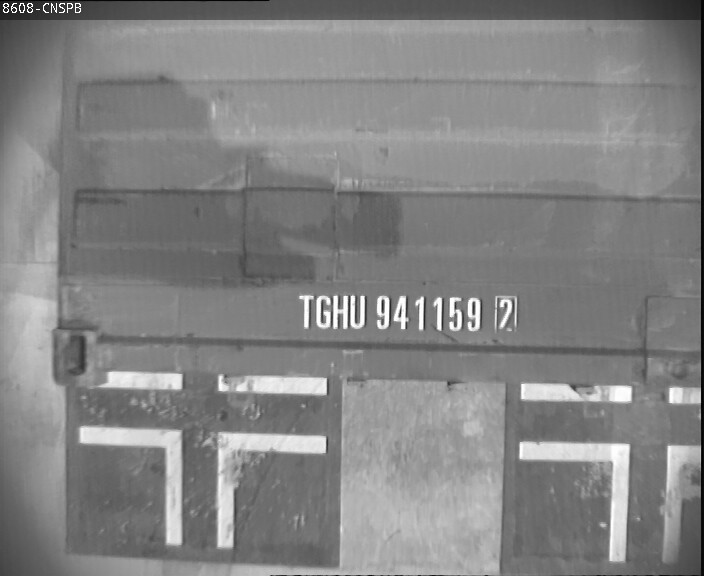groundmarker_1: (77, 422, 328, 546), (521, 440, 703, 564)
